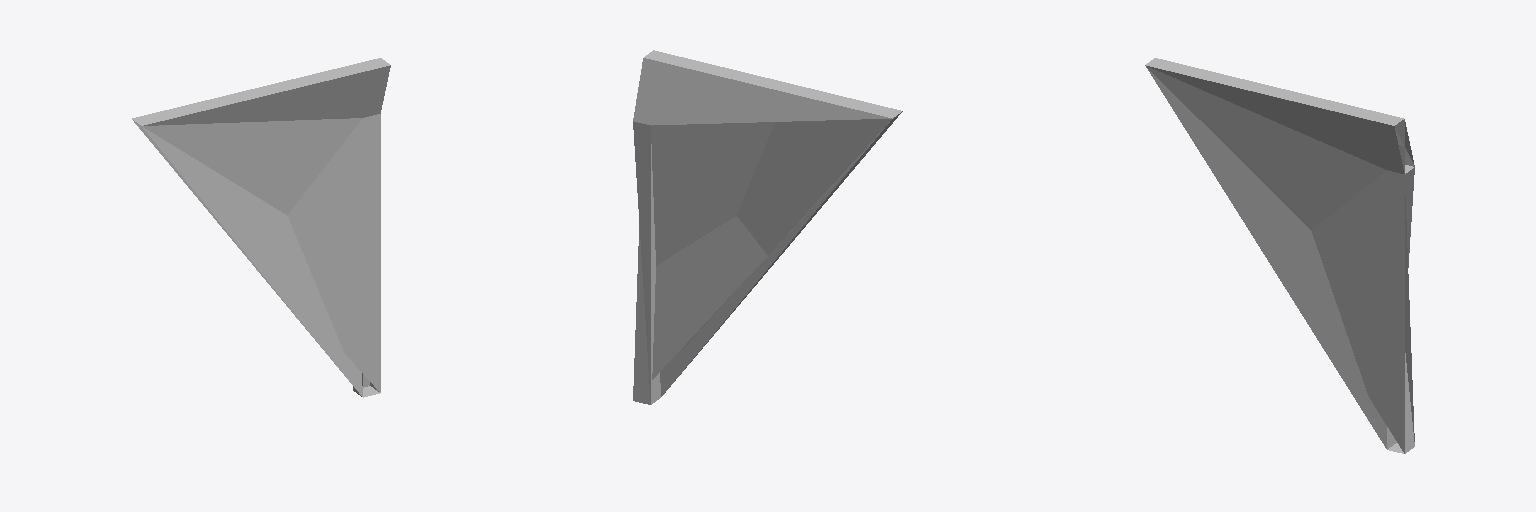
Rendered from Bathroom Stall 2.obj.
The picture shows the model from 3 angles: view 1: azimuth 30°, elevation 25°; view 2: azimuth 150°, elevation 25°; view 3: azimuth 330°, elevation 25°; orthographic projection.
Size of the model in its own units: 14 by 18 by 2.